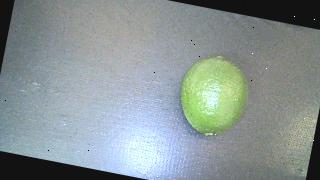EXPORTACION: (174, 50, 255, 142)
